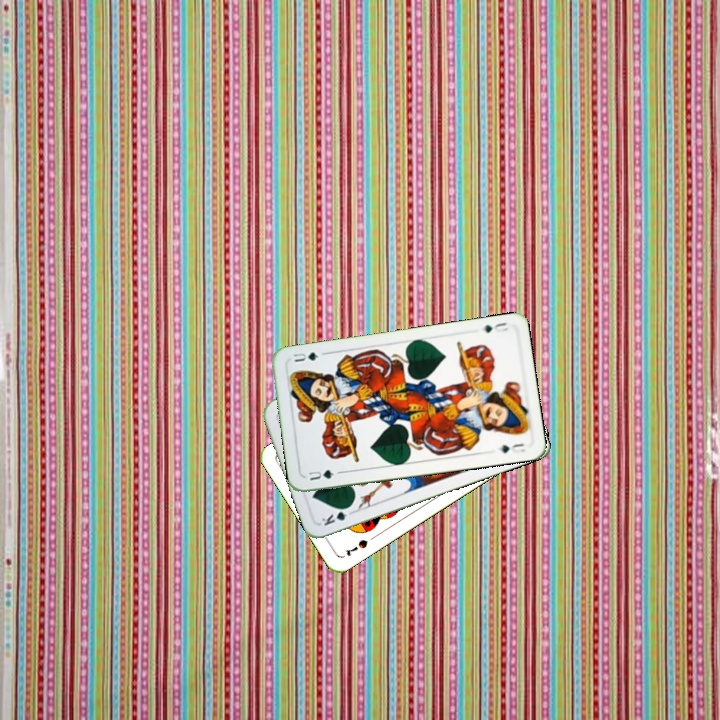GK: (317, 502, 354, 528)
GU: (477, 318, 511, 335), (304, 465, 336, 483)
S7: (341, 535, 370, 559)
